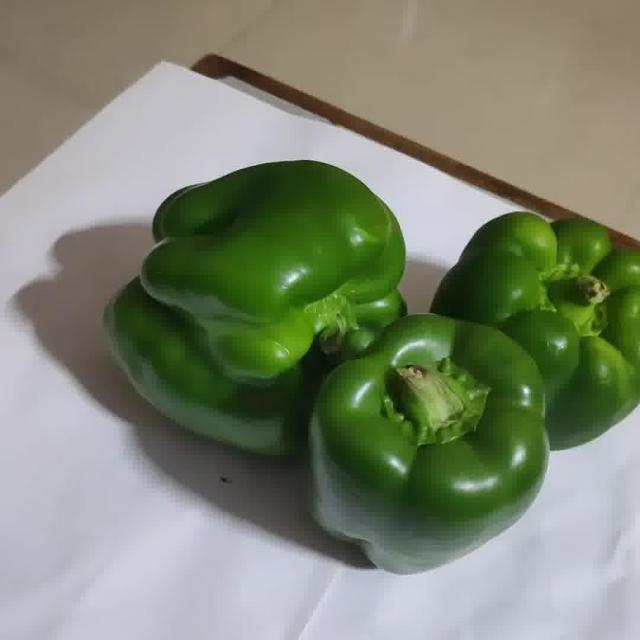Bell Pepper: (105, 161, 406, 453), (309, 314, 549, 574), (431, 212, 639, 450)
